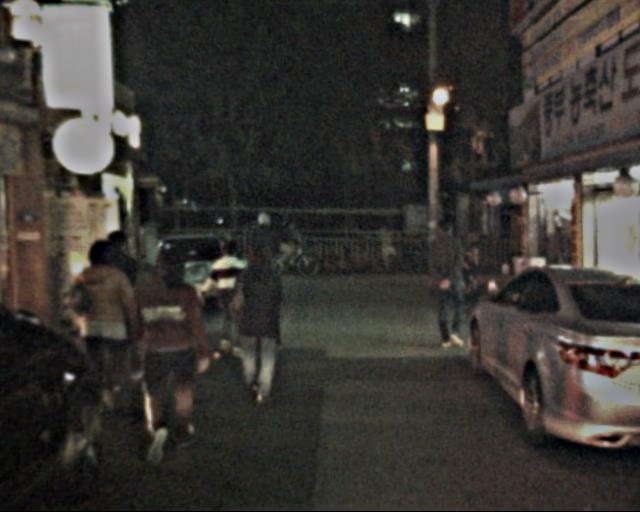person: (128, 249, 213, 459), (71, 238, 143, 410), (226, 240, 294, 406), (91, 225, 156, 379), (423, 220, 478, 354), (240, 213, 296, 341), (205, 240, 253, 351)
